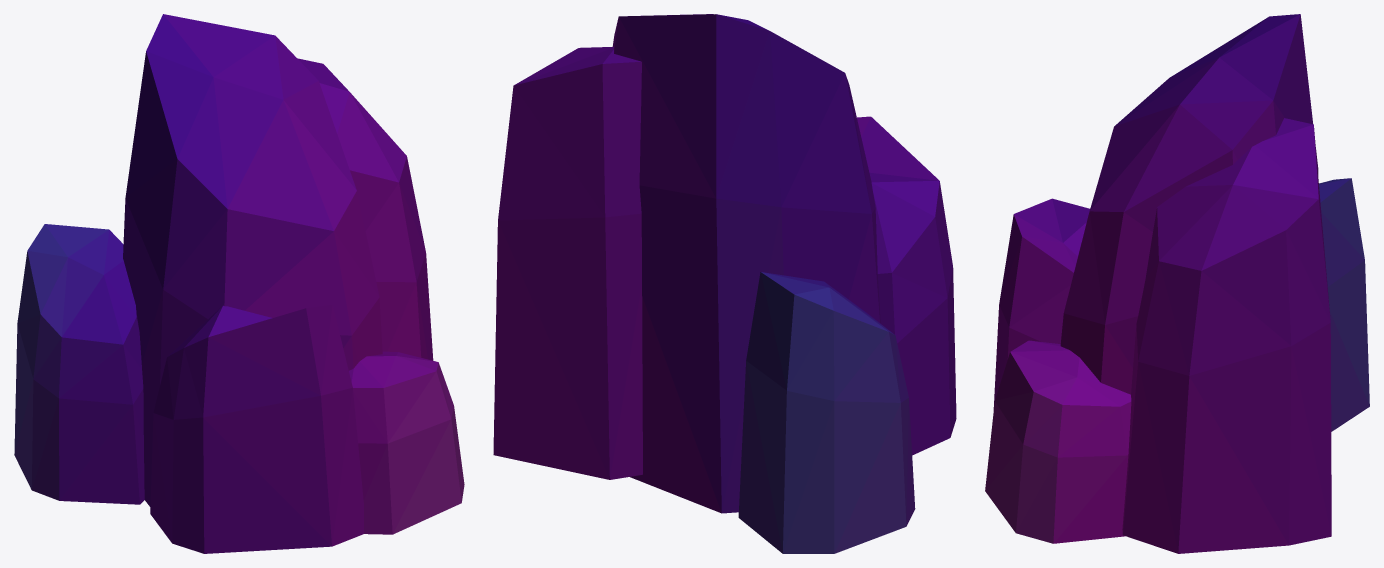
Rendered from SM_CinderCanyon_Rock_F_LOD2.fbx.
The picture shows the model from 3 angles, left to right: view 1: azimuth 30°, elevation 25°; view 2: azimuth 150°, elevation 25°; view 3: azimuth 270°, elevation 25°; orthographic projection. The views are drawn at different scales.
Visible parts, largest first — view 1: SM_CinderCanyon_Rock_F_LOD2; view 2: SM_CinderCanyon_Rock_F_LOD2; view 3: SM_CinderCanyon_Rock_F_LOD2.
Part boxes in pixels (box(x1,y1,x2,y2)): SM_CinderCanyon_Rock_F_LOD2: box(14, 14, 464, 553); SM_CinderCanyon_Rock_F_LOD2: box(493, 14, 956, 553); SM_CinderCanyon_Rock_F_LOD2: box(985, 14, 1369, 553).
Size of the model in its own units: 100 by 89 by 112.
